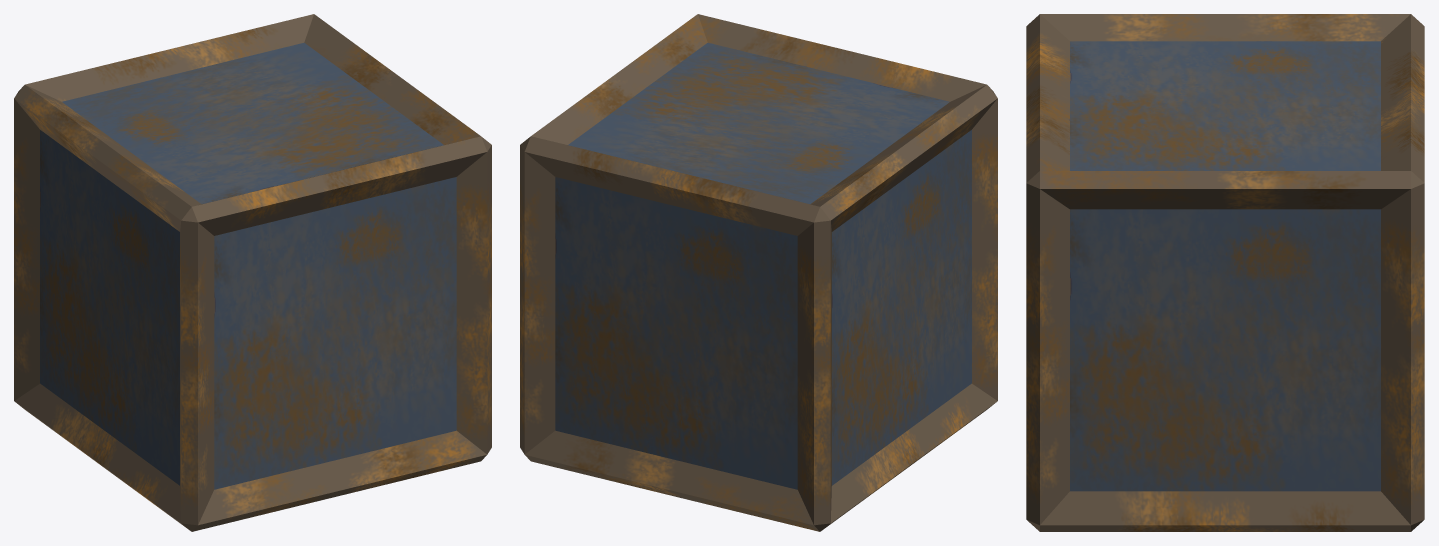
File: metalbox.obj
3 renders of one model, left to right at view 1: azimuth 30°, elevation 25°; view 2: azimuth 150°, elevation 25°; view 3: azimuth 270°, elevation 25°, orthographic. The views are drawn at different scales.
Visible parts, largest first — view 1: Cube.003_Cube.005; view 2: Cube.003_Cube.005; view 3: Cube.003_Cube.005.
Boxes of the visible parts, box(x1,y1,x2,y2) form: Cube.003_Cube.005: box(14, 14, 491, 531); Cube.003_Cube.005: box(520, 14, 997, 531); Cube.003_Cube.005: box(1026, 14, 1424, 531).
Bounding box in the file's own units: 2 × 2 × 2.
1 material, 1 textured.
